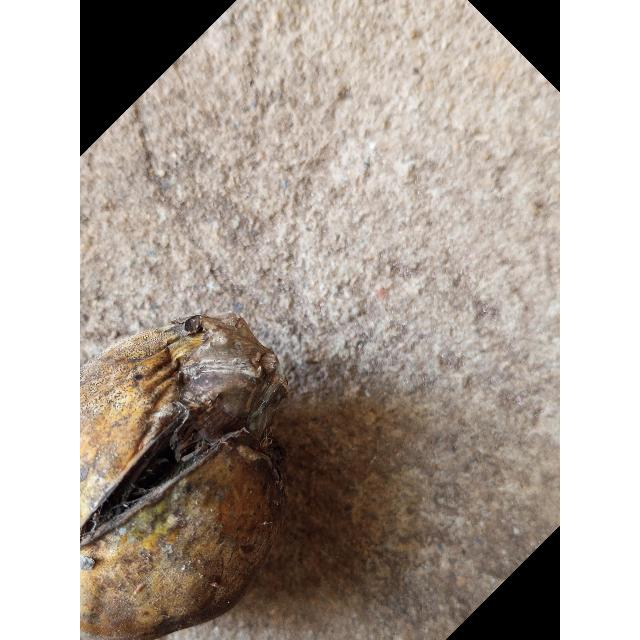damaged: (80, 314, 289, 640)
